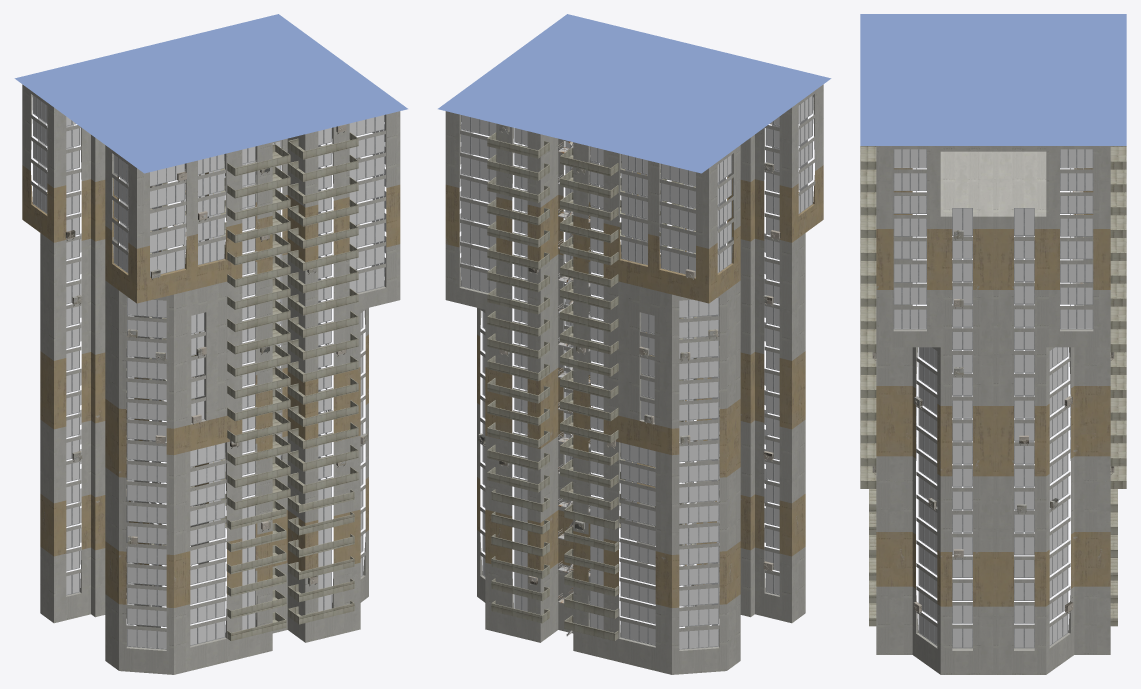
The model's file is KB3D_NEC_BldgMD_B_Main_H50.glb.
3 renders of one model, left to right at view 1: azimuth 30°, elevation 25°; view 2: azimuth 150°, elevation 25°; view 3: azimuth 270°, elevation 25°, orthographic. The views are drawn at different scales.
Visible parts, largest first — view 1: KB3D_NEC_BldgMD_B_Main, roof_cap_node; view 2: KB3D_NEC_BldgMD_B_Main, roof_cap_node; view 3: KB3D_NEC_BldgMD_B_Main, roof_cap_node.
Part boxes in pixels (left/top/right/bottom): KB3D_NEC_BldgMD_B_Main: left=22, top=84, right=400, bottom=674; roof_cap_node: left=14, top=14, right=407, bottom=173; KB3D_NEC_BldgMD_B_Main: left=445, top=84, right=823, bottom=674; roof_cap_node: left=438, top=14, right=831, bottom=173; KB3D_NEC_BldgMD_B_Main: left=860, top=146, right=1126, bottom=674; roof_cap_node: left=860, top=14, right=1126, bottom=145.
Size of the model in its own units: 26.78 by 50 by 22.81.
13 materials, 11 textured.
